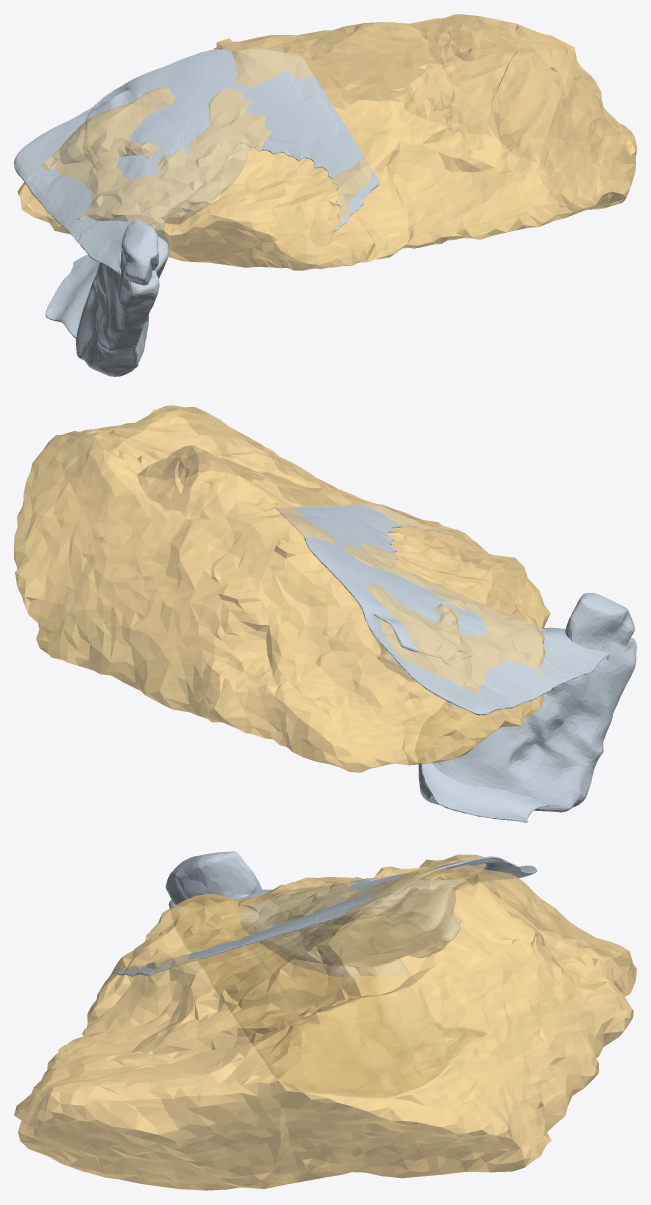
The model's file is stress_v8-T2-C1.glb.
3 views of the same model, one above another, from view 1: azimuth 30°, elevation 25°; view 2: azimuth 150°, elevation 25°; view 3: azimuth 270°, elevation 25° (orthographic). The views are drawn at different scales.
Visible parts, largest first — view 1: truth, imagination; view 2: truth, imagination; view 3: truth, imagination.
Boxes of the visible parts, x1,y1,x2,y2 form: truth: [17, 14, 636, 270]; imagination: [14, 49, 379, 376]; truth: [14, 405, 550, 772]; imagination: [276, 504, 636, 822]; truth: [14, 854, 636, 1190]; imagination: [114, 851, 537, 1097].
Bounding box in the file's own units: 1.29 × 0.6688 × 1.08.
